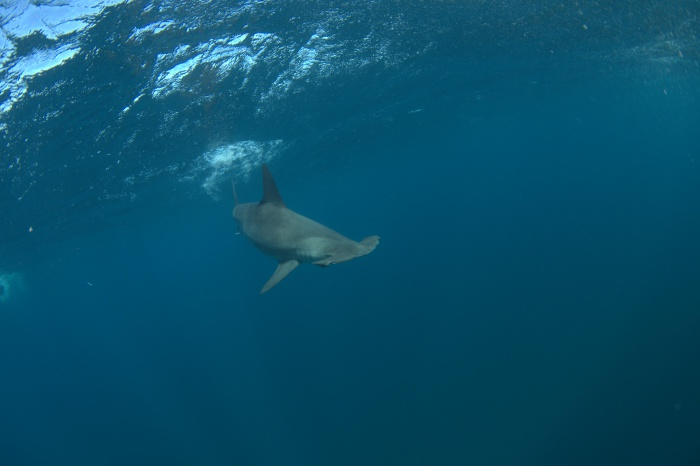Hammer: (204, 162, 386, 295)
